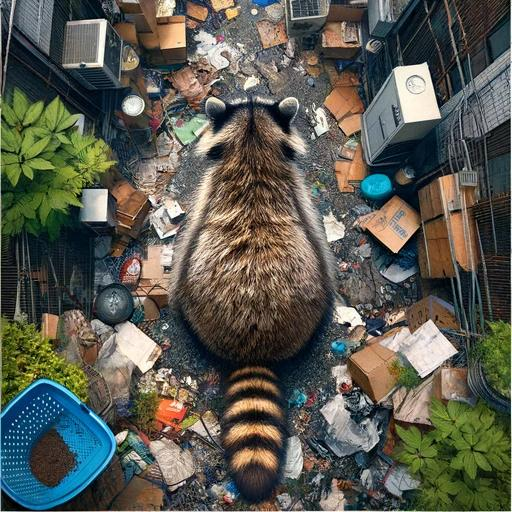raccoon: (162, 85, 344, 512)
